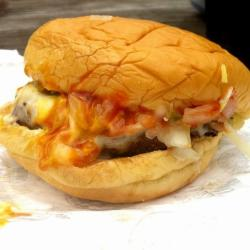burger: (4, 14, 247, 209)
